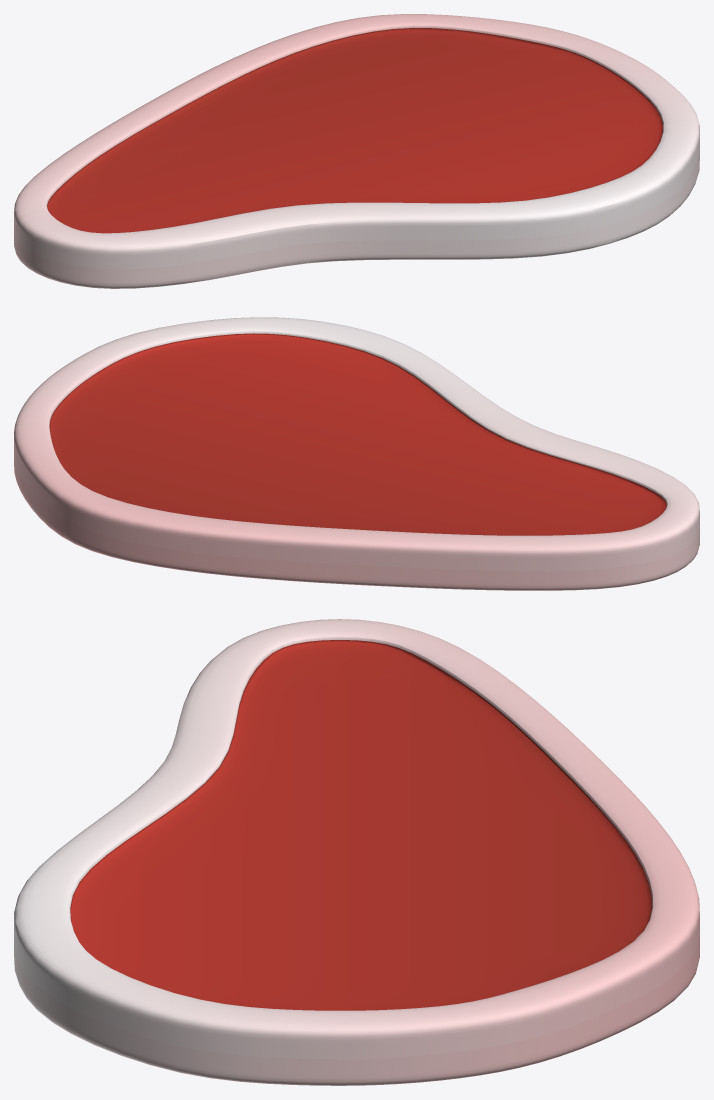
The model's file is HH_RawSteak.fbx.
3 views of the same model, one above another, from view 1: azimuth 30°, elevation 25°; view 2: azimuth 150°, elevation 25°; view 3: azimuth 270°, elevation 25° (orthographic). The views are drawn at different scales.
Parts seen in each view (by area): view 1: Top.001, Bottom.001; view 2: Top.001, Bottom.001; view 3: Top.001, Bottom.001.
Part boxes in pixels (bbox=[...]): Top.001: bbox=[14, 14, 699, 269]; Bottom.001: bbox=[14, 147, 699, 288]; Top.001: bbox=[14, 317, 699, 571]; Bottom.001: bbox=[14, 452, 699, 590]; Top.001: bbox=[14, 619, 699, 1059]; Bottom.001: bbox=[14, 936, 699, 1085].
Size of the model in its own units: 100 by 6.95 by 70.
Materials: 1 (1 with a texture image).
